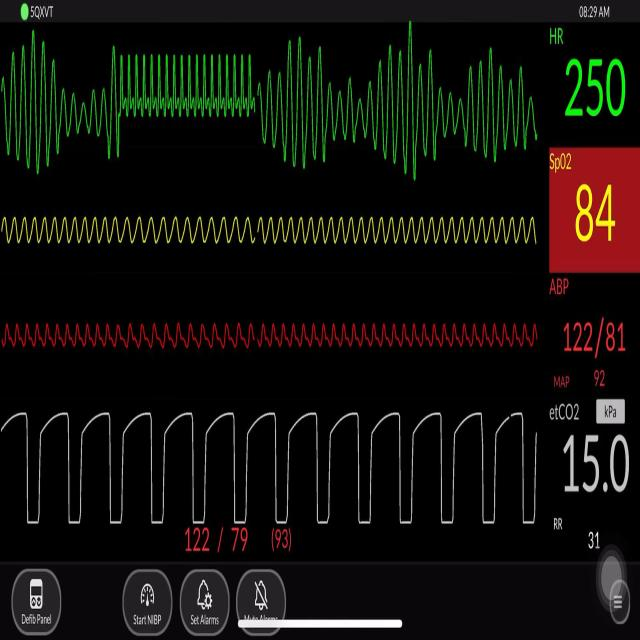danger: (270, 43, 538, 171), (6, 38, 106, 191), (125, 49, 258, 153)
